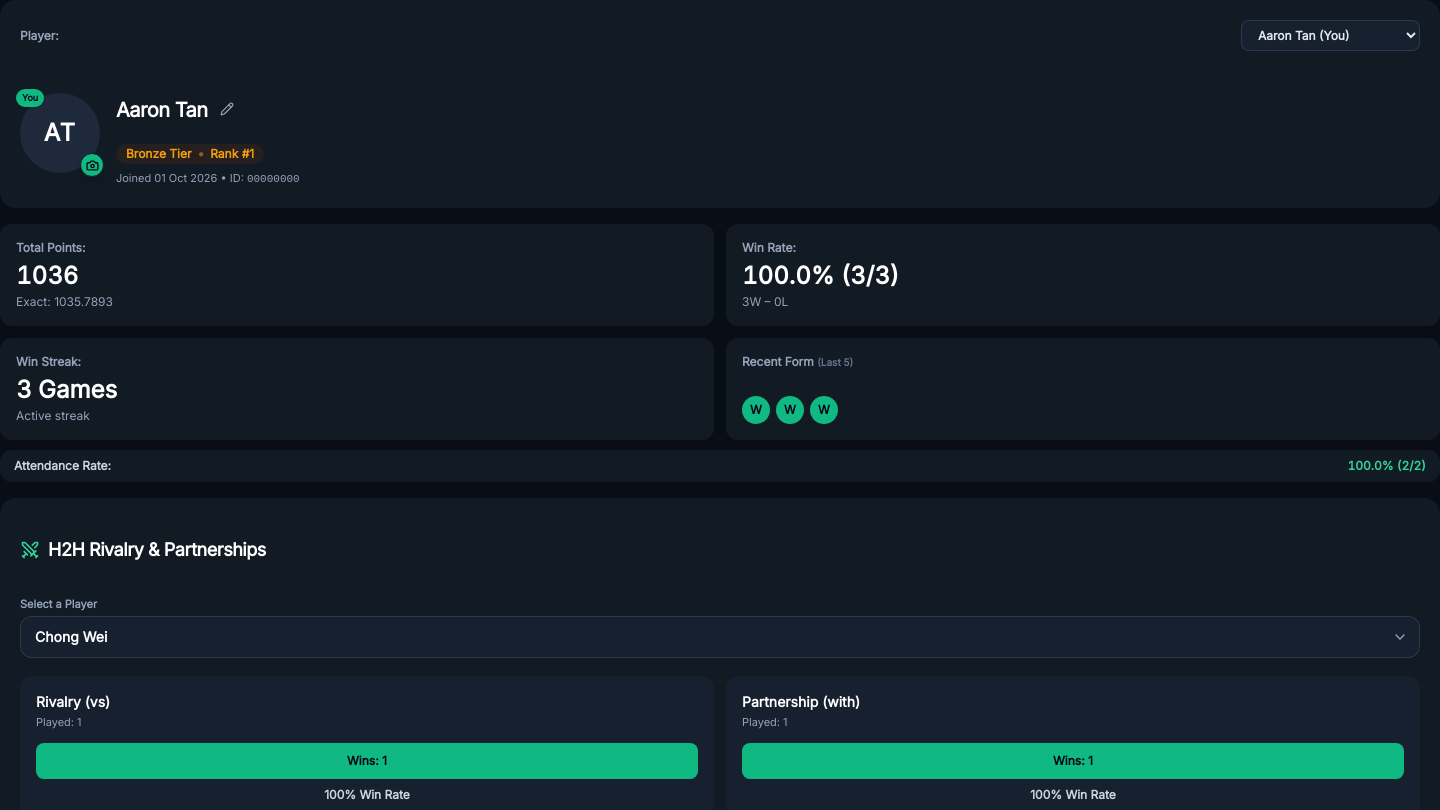
Scenario: Phase — Update Player Display Name UI Suite › ProfileView Integration › renders edit button when viewing own linked profile and opens modal
The image size is (1440, 810).
Click the button with test id "edit-player-name-btn".
click(227, 110)  # box [216, 94, 238, 126]
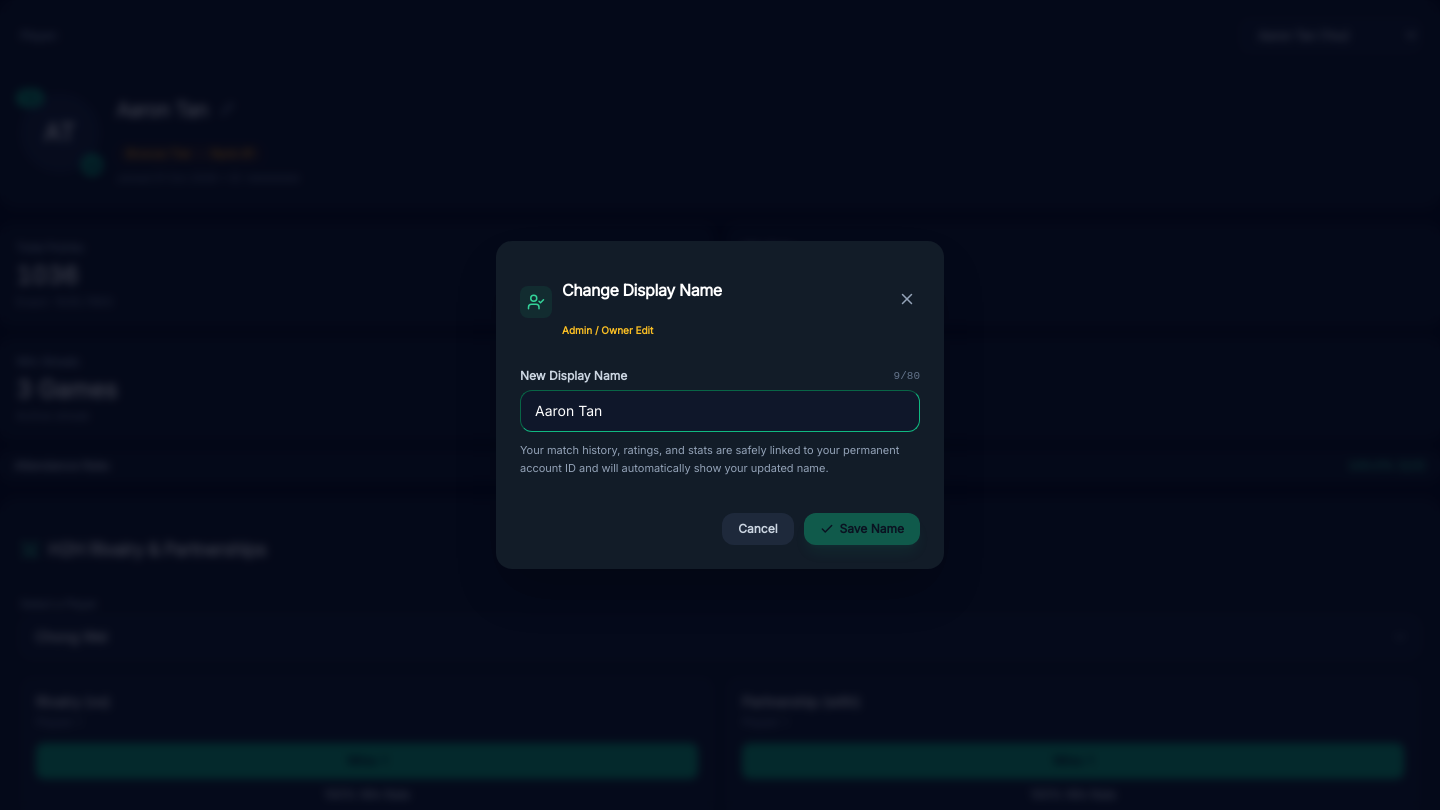
Now the dialog with test id "edit-player-name-modal" is shown
